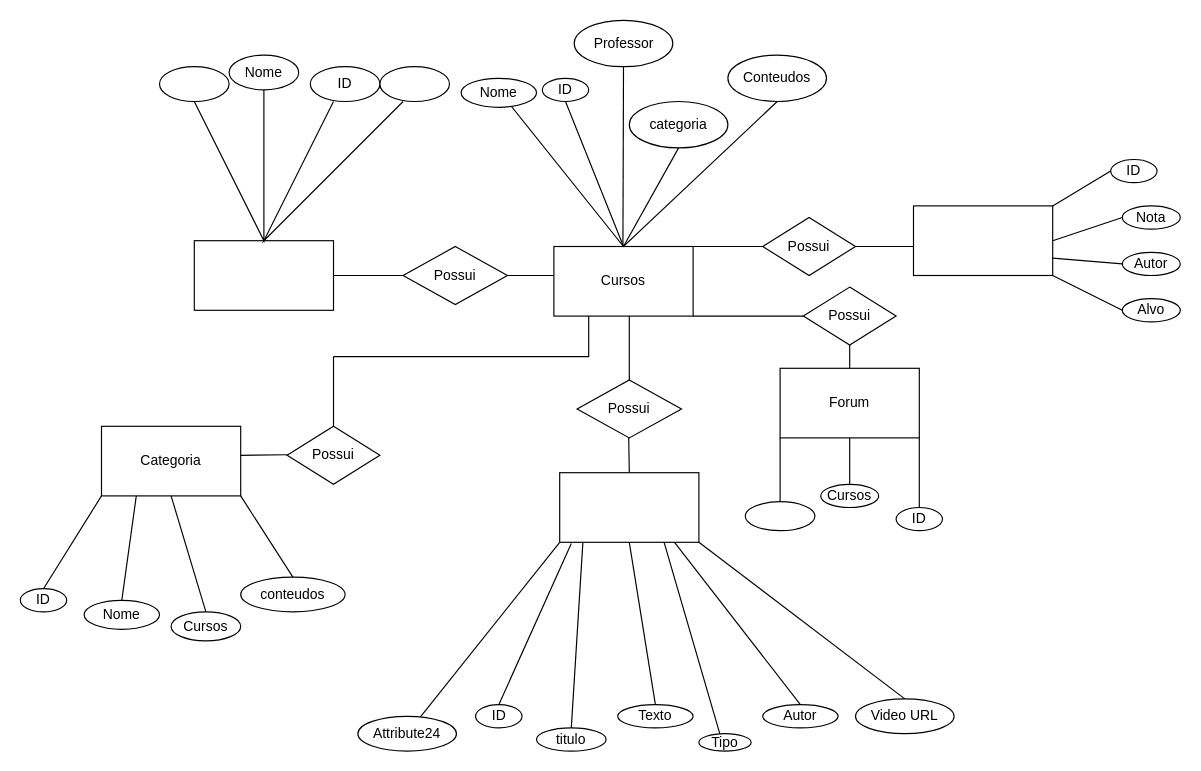
Some shapes in this 1201 by 771 pixel diagram are drawn without their labels. Each missing label, with the centre of its shape:
"Avaliacao" goes at point (982, 240).
"Conteudo" goes at point (629, 507).
"email" goes at point (193, 84).
"senha" goes at point (414, 84).
"Topicos" goes at point (779, 516).
"Usuário" goes at point (263, 275).
